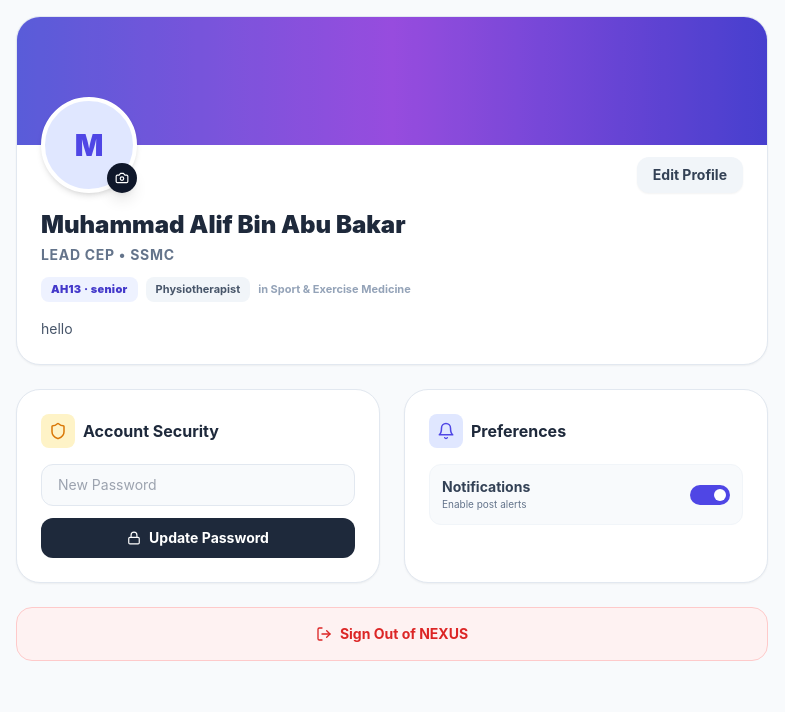
it: the consequence of a grade, beside the control that sets it › says the opposite for a junior grade rather than staying silent
The image size is (785, 712).
Click the button "Edit Profile" at x=690, y=175, box [637,157,743,193]
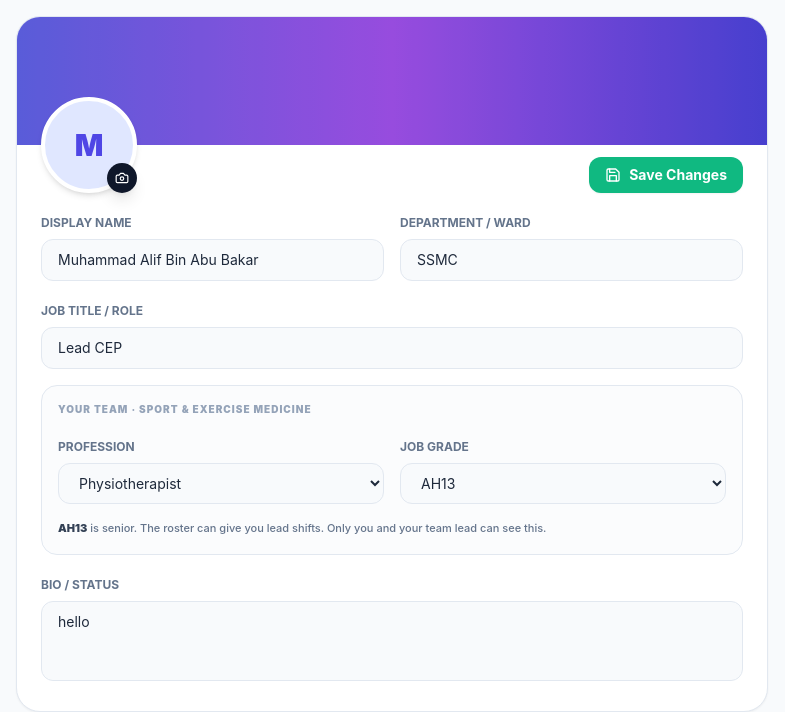
Select "AH8" in the dropdown labelled "Job Grade" at x=563, y=484, box [400,463,726,504]
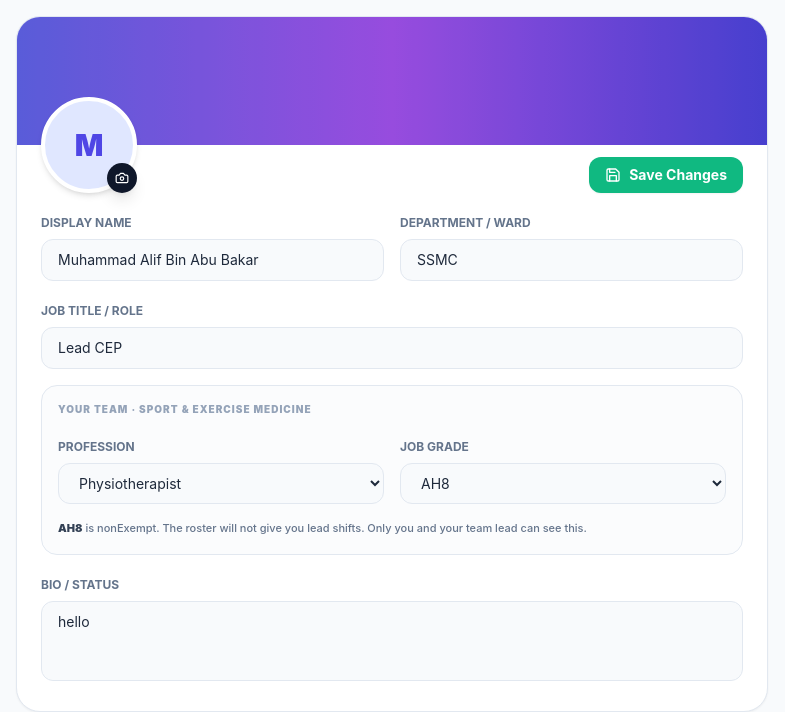
Expected: the text "will not give you lead shifts" is shown, [162,521,364,535]
